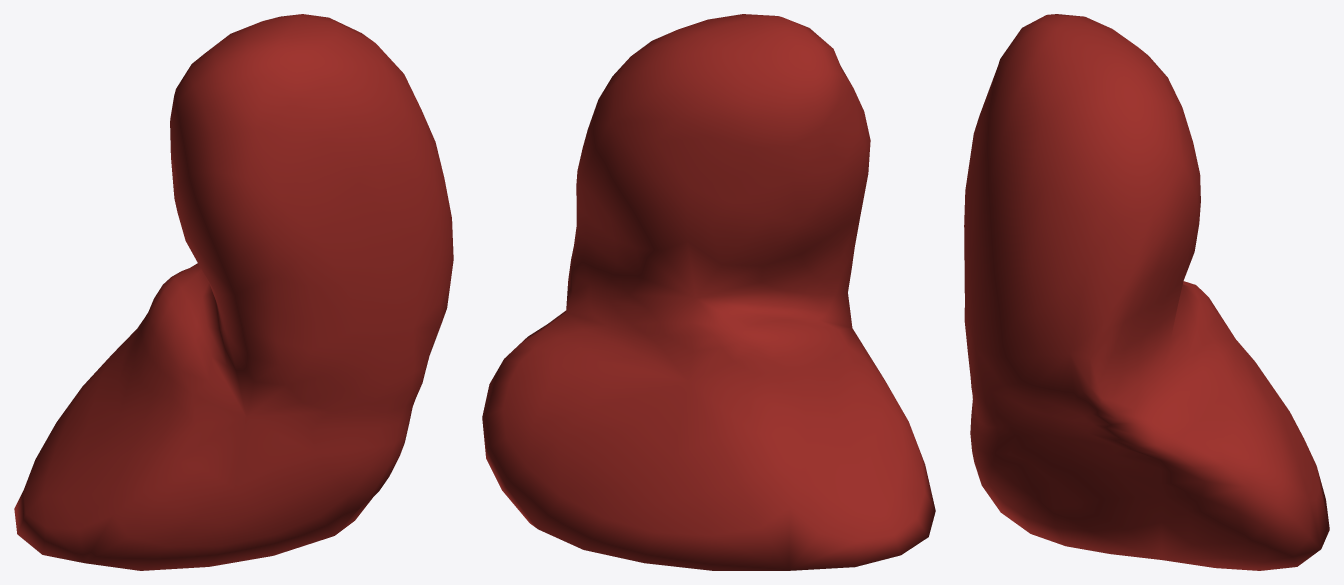
Rendered from Organic_Blob_004.fbx.
3 views of the same model, side by side, from view 1: azimuth 30°, elevation 25°; view 2: azimuth 150°, elevation 25°; view 3: azimuth 270°, elevation 25° (orthographic). The views are drawn at different scales.
Visible parts, largest first — view 1: Cube.008; view 2: Cube.008; view 3: Cube.008.
Boxes of the visible parts, x1,y1,x2,y2 form: Cube.008: (14,14,453,570); Cube.008: (482,14,935,570); Cube.008: (964,14,1329,570).
Size of the model in its own units: 631 by 728 by 501.
